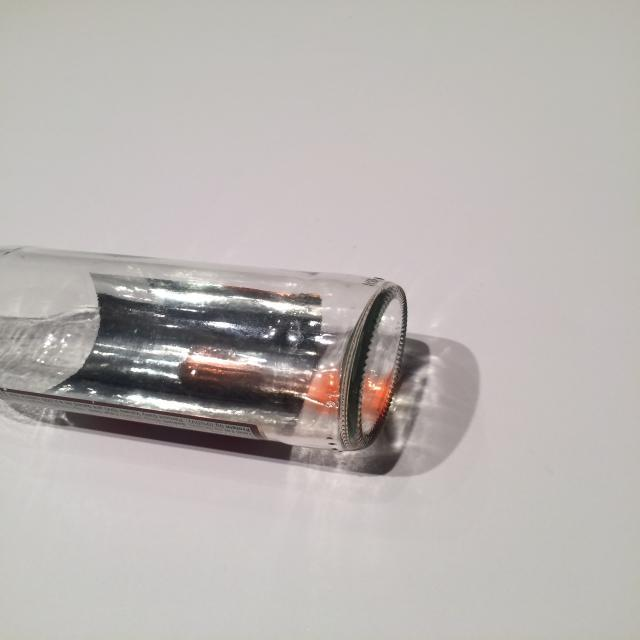glass: (2, 242, 420, 455)
